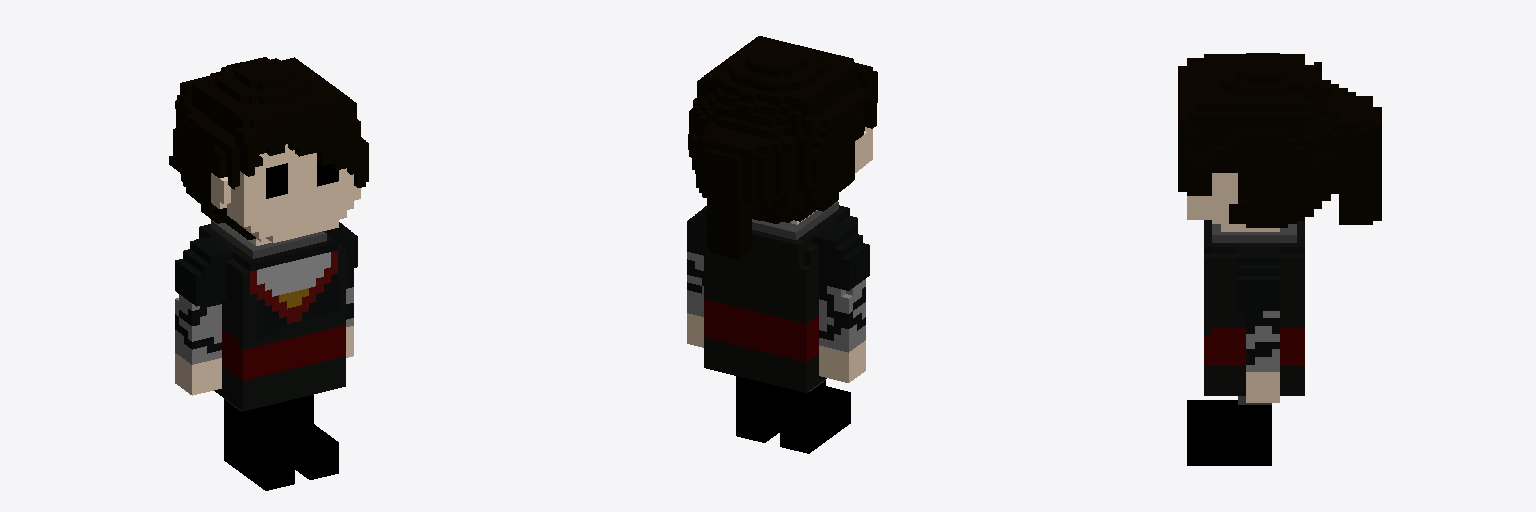
3 views of the same model, side by side, from view 1: azimuth 30°, elevation 25°; view 2: azimuth 150°, elevation 25°; view 3: azimuth 270°, elevation 25° (orthographic).
Visible parts, largest first — view 1: object 1; view 2: object 1; view 3: object 1.
Part boxes in pixels (x1,y1,x2,y2): object 1: (169, 57, 368, 490); object 1: (687, 36, 877, 453); object 1: (1178, 53, 1381, 465).
Bounding box in the file's own units: 2.2 × 5 × 2.4.
Materials: 1 (1 with a texture image).